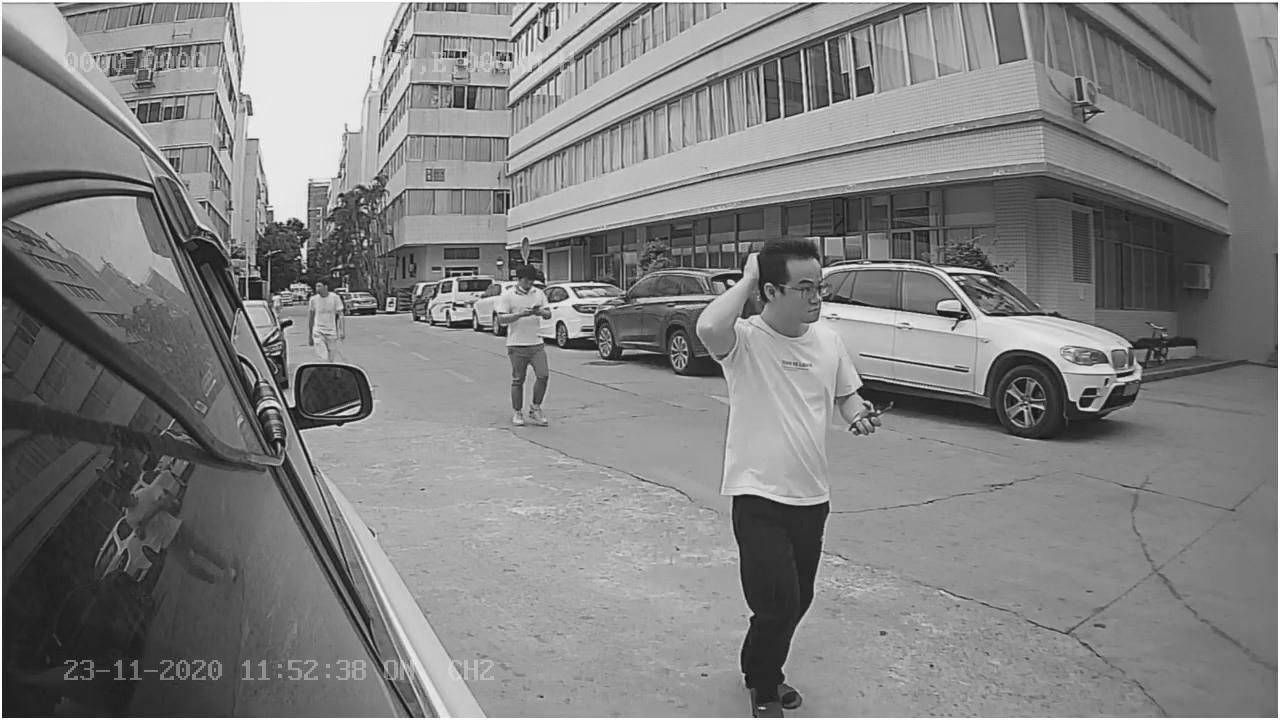person: (694, 240, 870, 699)
